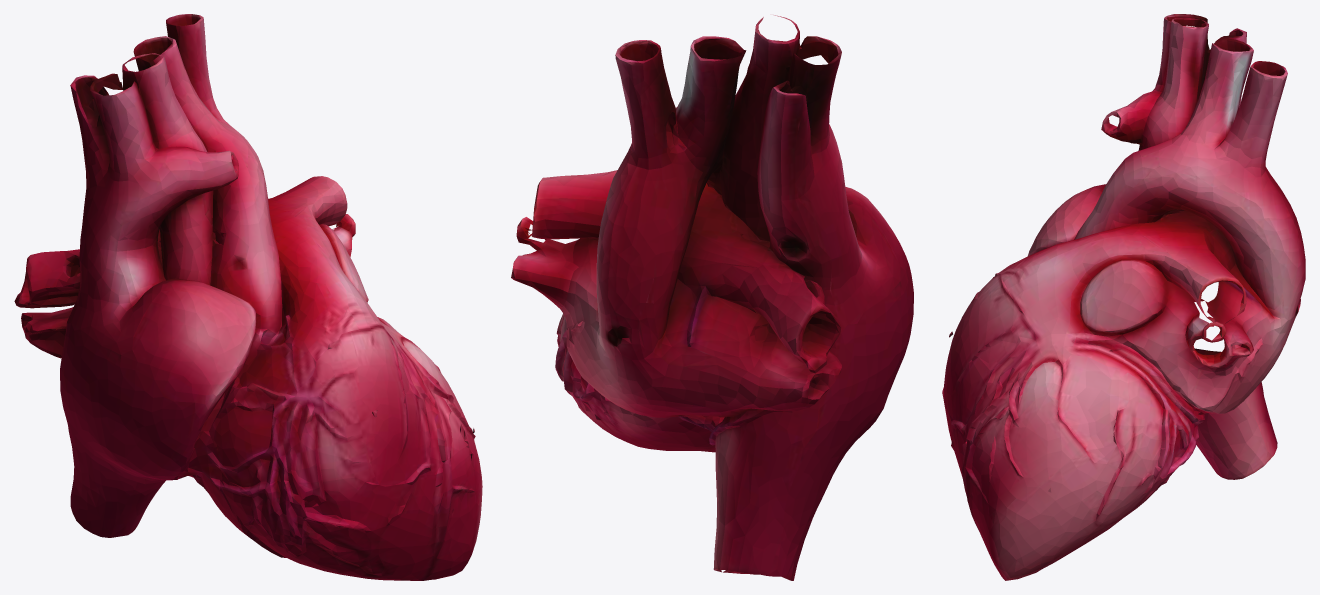
File: Heart.glb
The picture shows the model from 3 angles, left to right: view 1: azimuth 30°, elevation 25°; view 2: azimuth 150°, elevation 25°; view 3: azimuth 270°, elevation 25°; orthographic projection. The views are drawn at different scales.
Parts seen in each view (by area): view 1: Heart; view 2: Heart; view 3: Heart.
Part boxes in pixels (x1,y1,x2,y2): Heart: (14,14,482,580); Heart: (511,15,913,580); Heart: (942,14,1305,580).
Size of the model in its own units: 0.6002 by 0.8313 by 0.5883.
1 material, 1 textured.
